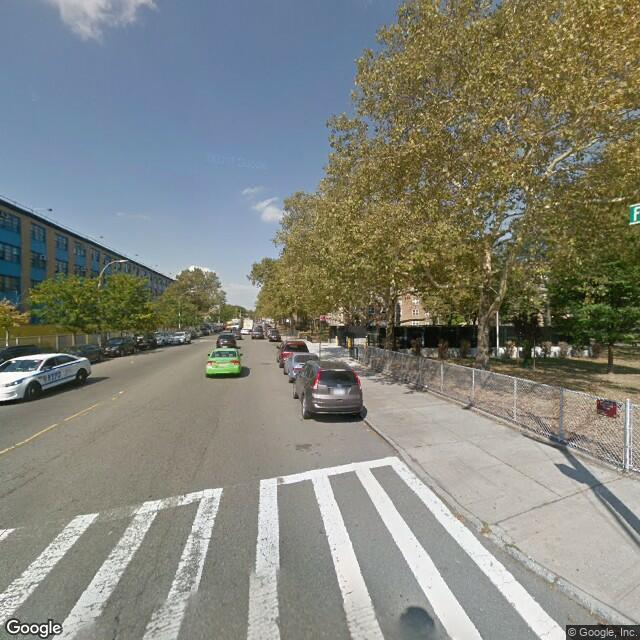litter: (118, 390, 127, 395), (422, 385, 431, 386), (130, 361, 132, 364)
